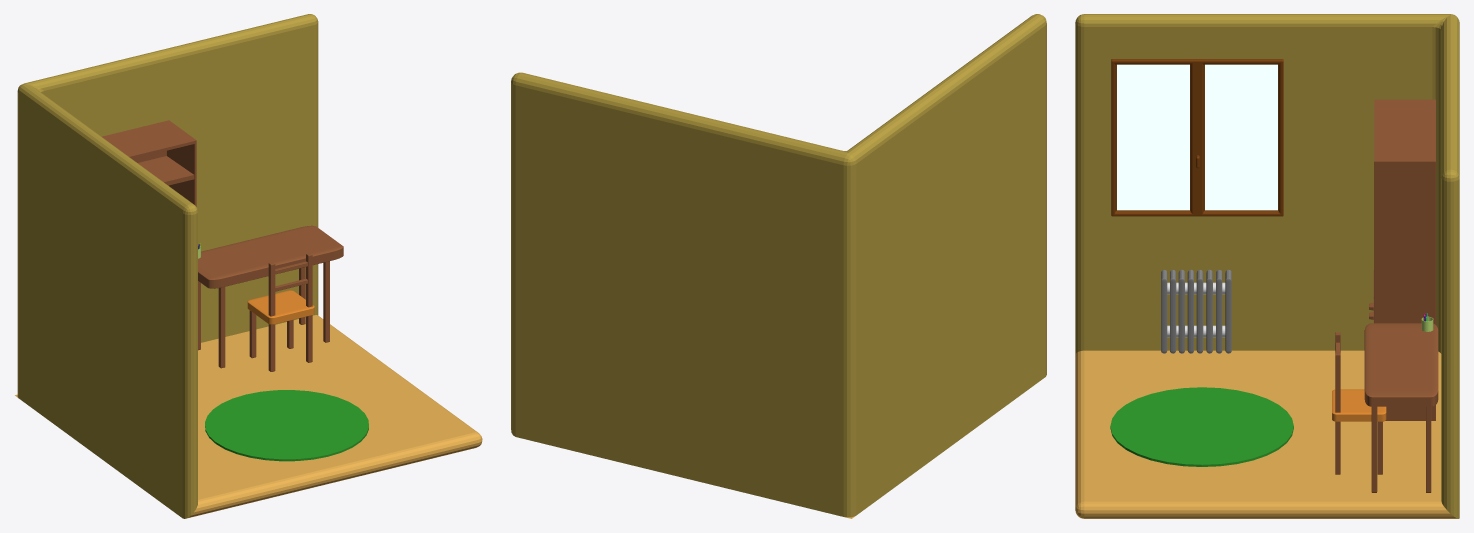
File: Room_avec_texture.glb
3 renders of one model, left to right at view 1: azimuth 30°, elevation 25°; view 2: azimuth 150°, elevation 25°; view 3: azimuth 270°, elevation 25°, orthographic. The views are drawn at different scales.
Parts seen in each view (by area): view 1: Cube, Cube.010, Cylinder.009, Cube.001, Cube.005, Cube.004, Cube.002, Cube.003; view 2: Cube; view 3: Cube, Cube.010, Plane, Cube.005, Cylinder.009, Cube.001, Cube.009, Cube.003, Cube.004, Cube.002.
Part boxes in pixels (left/top/right/bottom): Cube: left=17, top=14, right=318, bottom=518; Cube.010: left=15, top=315, right=482, bottom=518; Cylinder.009: left=205, top=390, right=368, bottom=461; Cube.001: left=198, top=225, right=343, bottom=288; Cube.005: left=102, top=120, right=196, bottom=206; Cube.004: left=249, top=253, right=312, bottom=371; Cube.002: left=198, top=261, right=329, bottom=368; Cube.003: left=247, top=290, right=314, bottom=324; Cube: left=511, top=14, right=1046, bottom=517; Cube: left=1075, top=14, right=1459, bottom=518; Cube.010: left=1075, top=350, right=1457, bottom=518; Plane: left=1111, top=59, right=1283, bottom=216; Cube.005: left=1369, top=99, right=1435, bottom=420; Cylinder.009: left=1110, top=387, right=1293, bottom=466; Cube.001: left=1364, top=323, right=1438, bottom=406; Cube.009: left=1161, top=269, right=1231, bottom=353; Cube.003: left=1332, top=389, right=1386, bottom=421; Cube.004: left=1335, top=332, right=1382, bottom=474; Cube.002: left=1371, top=406, right=1431, bottom=492.
Size of what is drawn, in the model's own units: 3.15 by 3.15 by 3.15.
